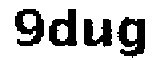9: (11, 7, 46, 49)
d: (48, 5, 78, 52)
g: (116, 14, 149, 59)
u: (78, 13, 113, 50)
